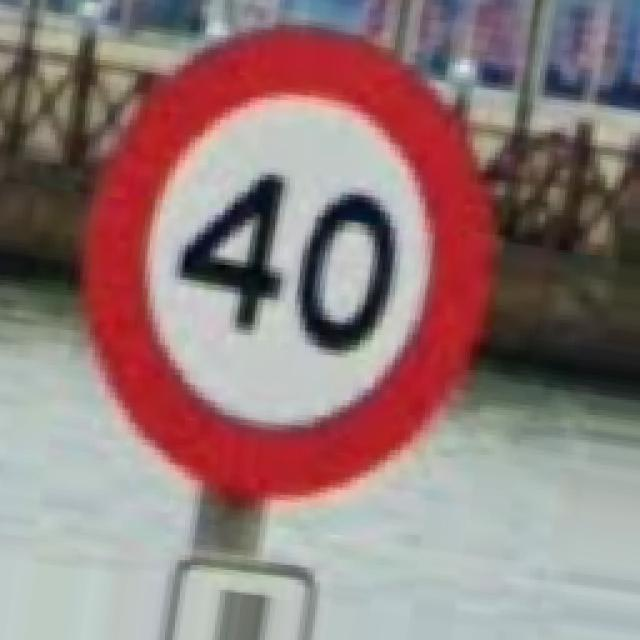Speed Limit -40-: (88, 25, 492, 500)
